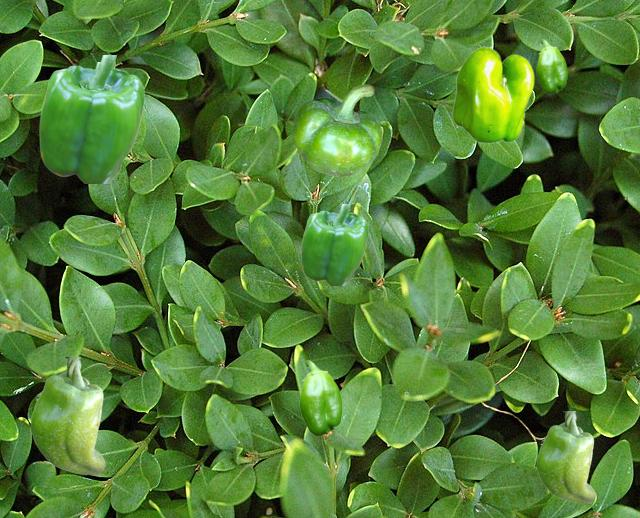bell_pepper: (39, 55, 143, 182), (30, 357, 104, 474), (292, 84, 381, 175), (452, 46, 533, 142), (301, 204, 367, 284), (536, 411, 594, 502), (299, 360, 341, 435), (536, 39, 566, 93)
